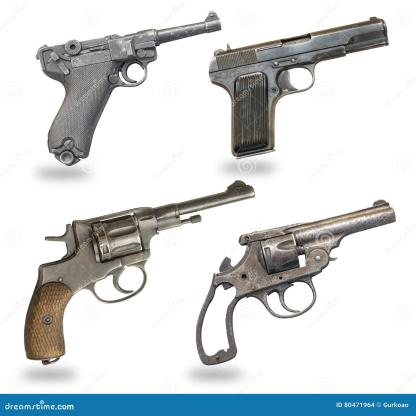handgun: (25, 177, 256, 368), (196, 197, 396, 365), (38, 17, 221, 166), (211, 13, 390, 162)
